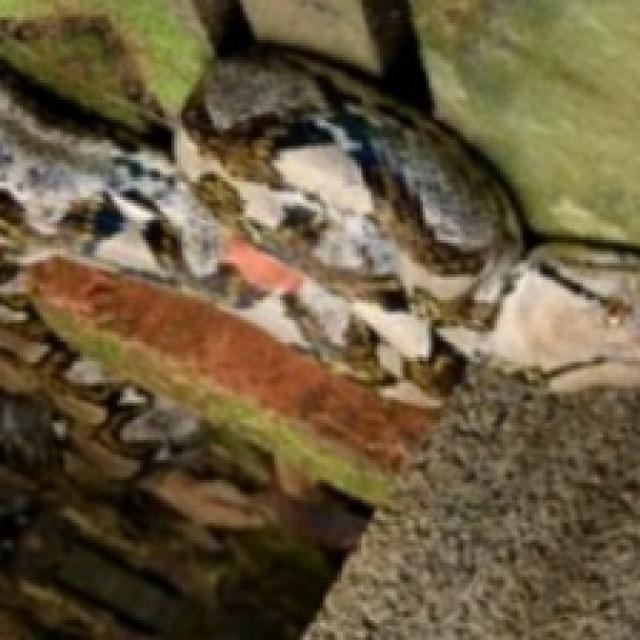reticulated python: (0, 44, 640, 529)
